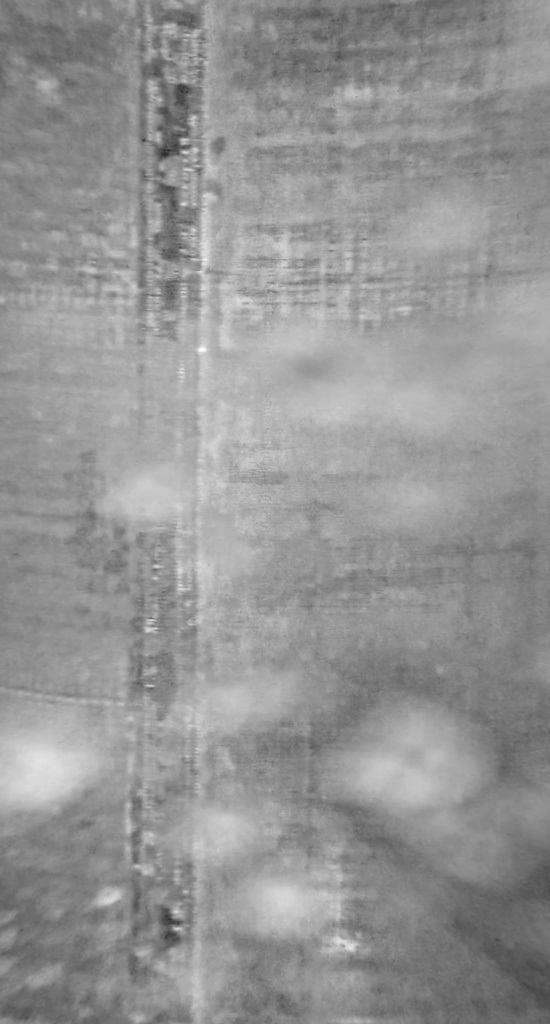splice: (116, 1, 213, 1020)
